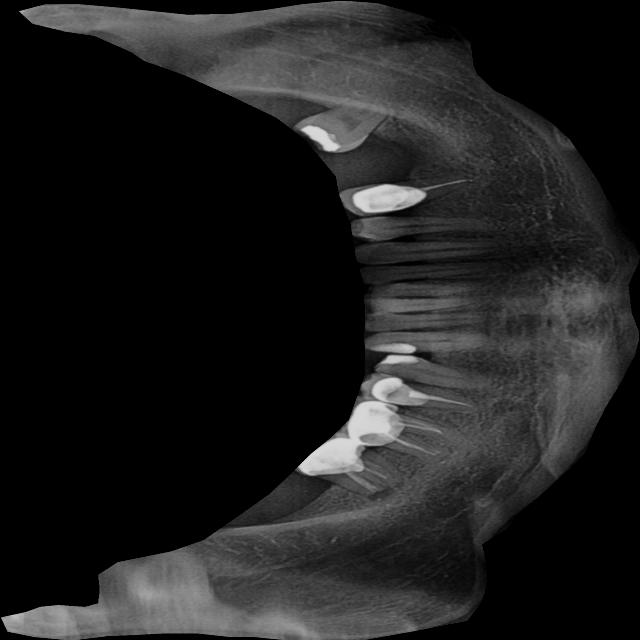mandibula: (1, 0, 640, 640)
